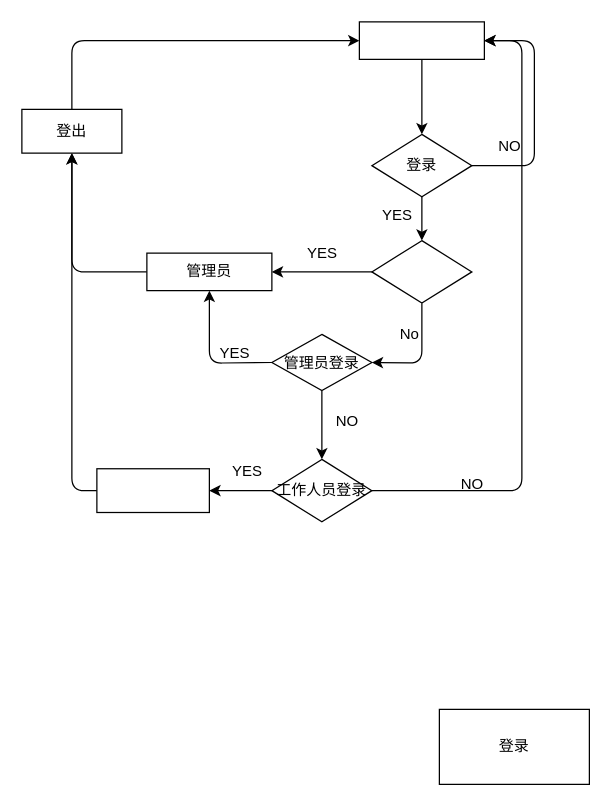
The diagram is 611 pixels wide and 806 high, and some of its shapes have lost their labels. Each missing label, with the centre of its shape:
工作人员: [152,490]
第一个用户: [421,271]
访客: [421,40]
